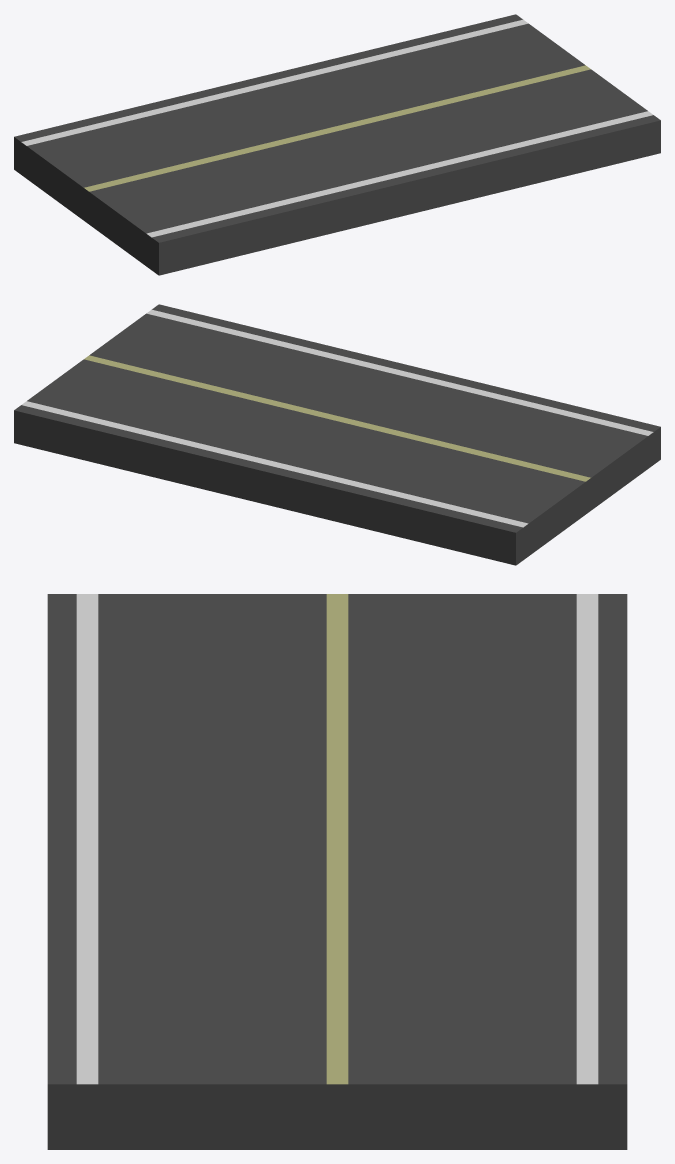
File: straight.glb
The picture shows the model from 3 angles, top to bottom: view 1: azimuth 30°, elevation 25°; view 2: azimuth 150°, elevation 25°; view 3: azimuth 270°, elevation 25°; orthographic projection. The views are drawn at different scales.
Visible parts, largest first — view 1: Road C; view 2: Road C; view 3: Road C.
Part boxes in pixels (box(x1,y1,x2,y2)): Road C: box(14, 14, 660, 275); Road C: box(14, 304, 660, 565); Road C: box(47, 594, 627, 1149).
Size of what is drawn, in the model's own units: 16 by 1 by 8.
Materials: 1 (1 with a texture image).
